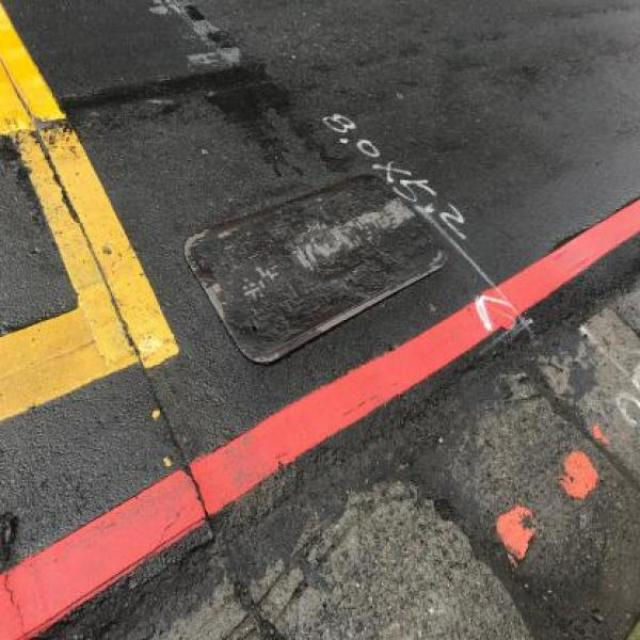Good: (181, 169, 453, 368)
